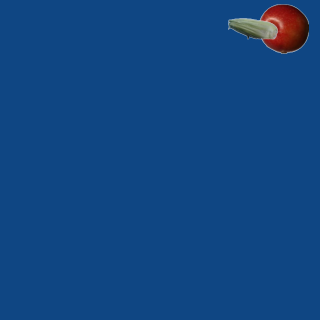Apple Braeburn: (258, 3, 308, 53)
Corn Husk: (227, 3, 277, 53)
